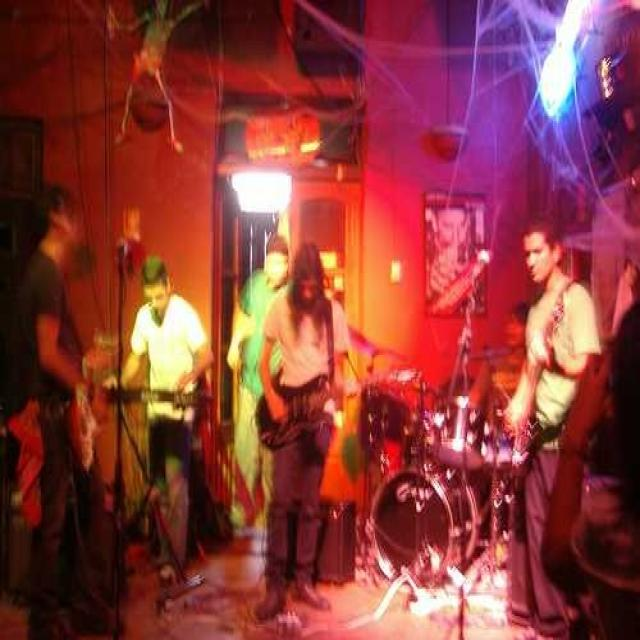microphone: (343, 350, 363, 385), (116, 238, 134, 268), (477, 243, 493, 274)
